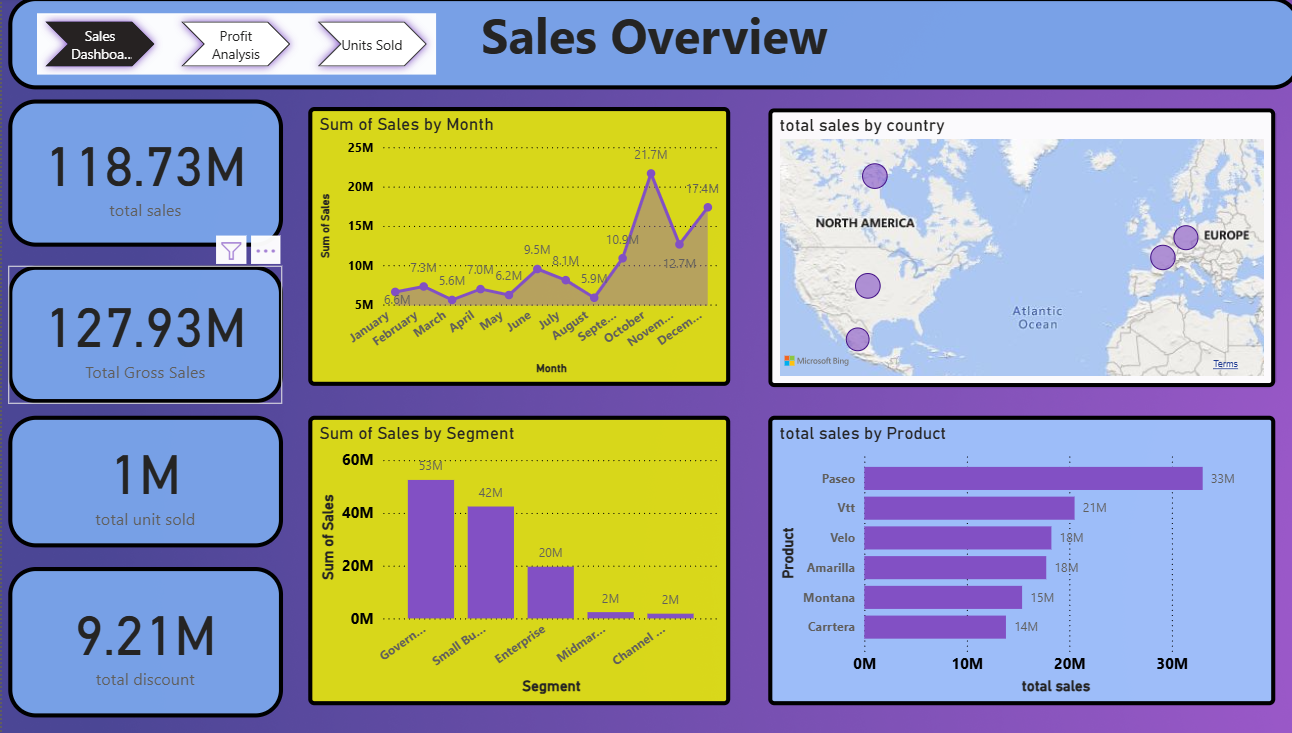

This screenshot's page, from the dashboard's own definition file:
{"tool":"powerbi","page":{"name":"Sales Dashboard","canvas":[1280,720],"ordinal":0},"visuals":[{"type":"textbox","box":[5.7,0,1264.3,90],"z":0},{"type":"pageNavigator","box":[34.3,15.7,390,60],"z":1000},{"type":"card","fields":{"Values":["Financial Data.total sales"]},"box":[5.7,100,268.6,144.3],"z":2000},{"type":"card","fields":{"Values":["Financial Data.total discount"]},"box":[5.7,557.1,268.6,147.1],"z":3000},{"type":"card","fields":{"Values":["Financial Data.total unit sold"]},"box":[5.7,410,268.6,128.6],"z":4000},{"type":"card","fields":{"Values":["Financial Data.Total Gross Sales"]},"box":[5.7,262.9,268.6,134.3],"z":5000},{"type":"lineChart","fields":{"Category":["Financial Data.Date.Variation.Date Hierarchy.Month"],"Y":["Sum(Financial Data. Sales)"]},"box":[300,107.1,412.9,272.9],"z":6000},{"type":"clusteredColumnChart","fields":{"Category":["Financial Data.Segment"],"Y":["Sum(Financial Data. Sales)"]},"box":[300,410,412.9,282.9],"z":7000},{"type":"map","fields":{"Category":["Financial Data.country"],"Size":["Financial Data.total sales"]},"box":[750,108.6,495.7,272.9],"z":8000},{"type":"barChart","fields":{"Category":["Financial Data.Product"],"Y":["Financial Data.total sales"]},"box":[750,410,496,283],"z":9000}]}

Visuals, with their boxes in screenshot pixels (x1, y1, x2, y2), scaled from the page's 1280x720 canvas onto the 1292x733 screenshot:
textbox: (6,0,1282,92)
pageNavigator: (35,16,428,77)
card - Financial Data.total sales: (6,102,277,249)
card - Financial Data.total discount: (6,567,277,717)
card - Financial Data.total unit sold: (6,417,277,548)
card - Financial Data.Total Gross Sales: (6,268,277,404)
lineChart - Financial Data.Date.Variation.Date Hierarchy.Month x Sum(Financial Data. Sales): (303,109,720,387)
clusteredColumnChart - Financial Data.Segment x Sum(Financial Data. Sales): (303,417,720,705)
map - Financial Data.country x Financial Data.total sales: (757,111,1257,388)
barChart - Financial Data.Product x Financial Data.total sales: (757,417,1258,706)
